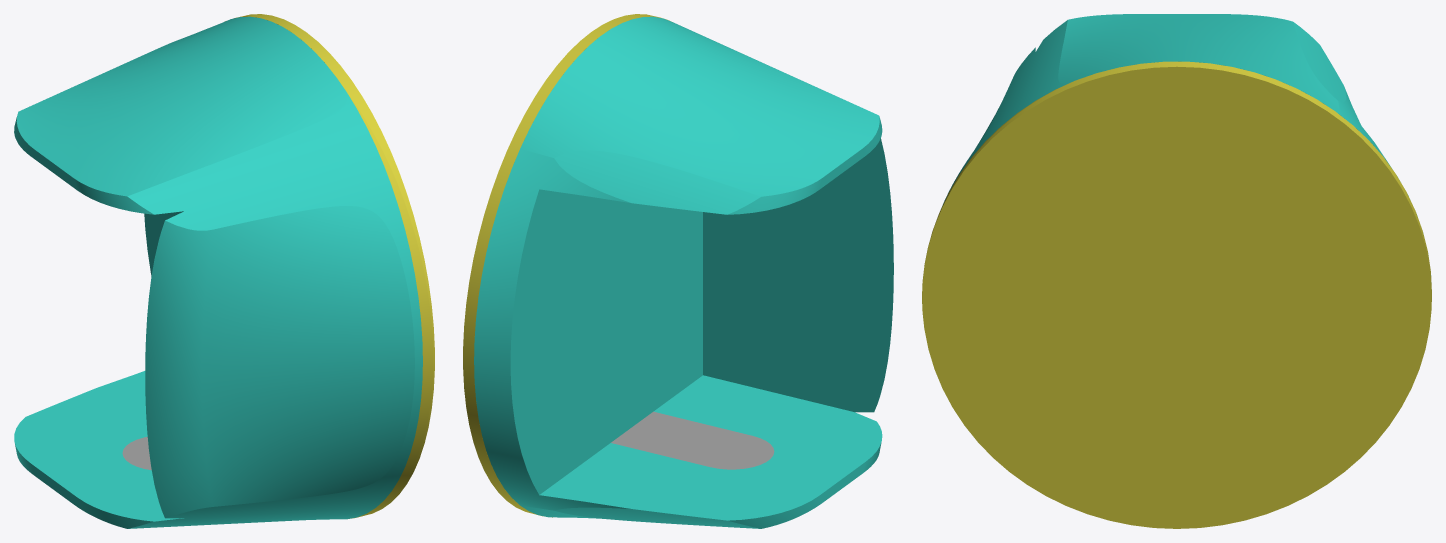
Rendered from shoulder_bracket_dexter.obj.
The picture shows the model from 3 angles, left to right: view 1: azimuth 30°, elevation 25°; view 2: azimuth 150°, elevation 25°; view 3: azimuth 270°, elevation 25°; orthographic projection.
Parts seen in each view (by area): view 1: Body15, Body1, Body3; view 2: Body15, Body1, Body3; view 3: Body1, Body15.
Boxes of the visible parts, bbox=[...] form: Body15: bbox=[14, 16, 422, 528]; Body1: bbox=[225, 14, 434, 518]; Body3: bbox=[122, 436, 151, 470]; Body15: bbox=[474, 16, 893, 528]; Body1: bbox=[463, 14, 669, 517]; Body3: bbox=[611, 411, 774, 469]; Body1: bbox=[922, 61, 1431, 528]; Body15: bbox=[941, 14, 1431, 275].
Bounding box in the file's own units: 0.136 × 0.24 × 0.24.
